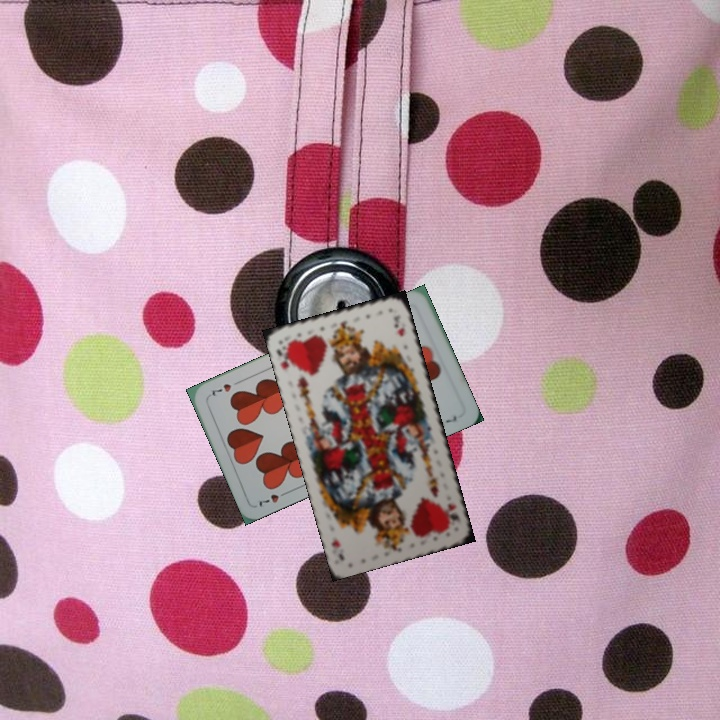H7: (255, 486, 292, 510)
HK: (273, 339, 296, 372), (443, 499, 462, 525)
